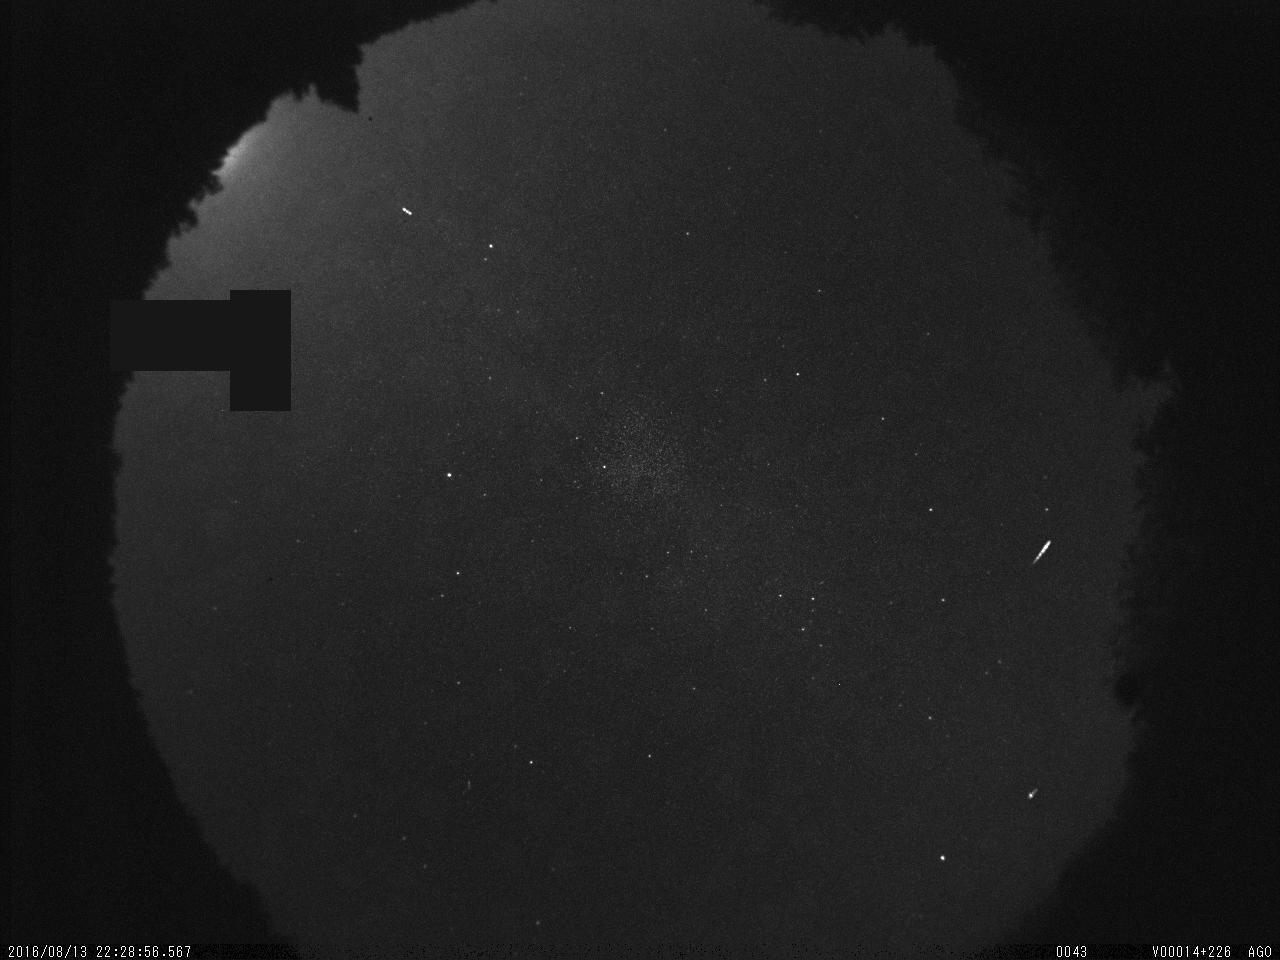meteor: (1025, 530, 1059, 577)
